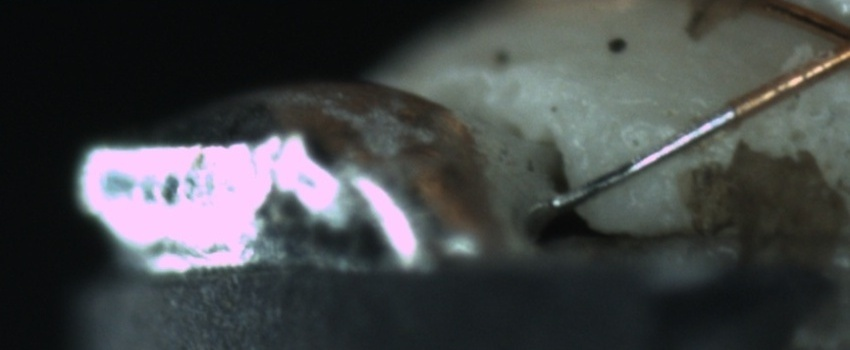CL: (807, 11, 850, 78)
TS: (551, 109, 739, 215)
